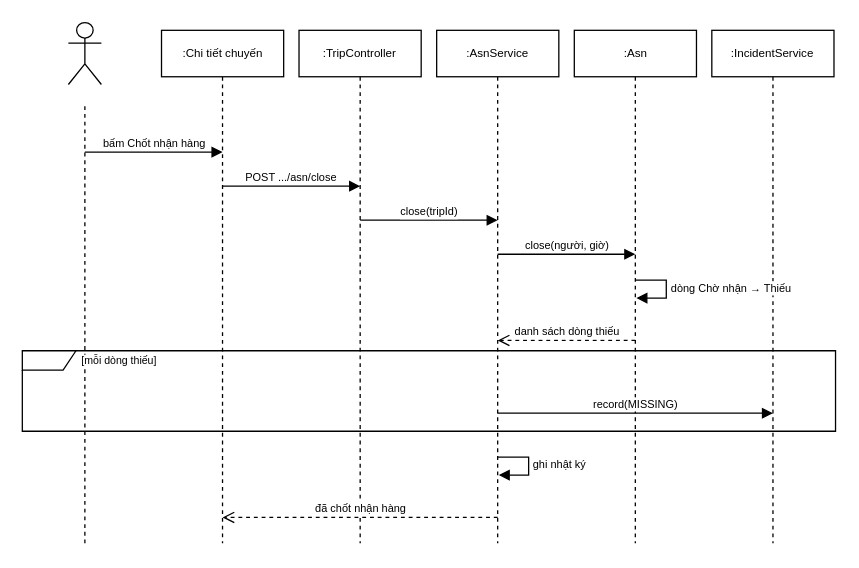
Some shapes in this 859 by 568 pixel diagram are drawn without their labels. Here are the shapes that lost their labels. From the top down, the box of each, then its label:
(67, 21, 101, 84): NV Inbound
(21, 349, 836, 431): loop
